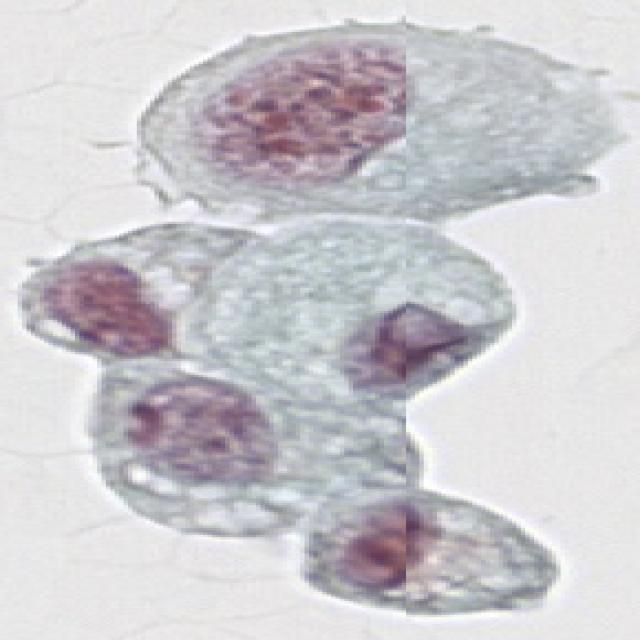cytoplasm: (128, 16, 623, 219), (75, 331, 434, 566), (185, 207, 523, 416), (288, 471, 561, 628)
nucleus: (113, 369, 285, 495), (328, 280, 484, 403), (323, 482, 453, 612)
